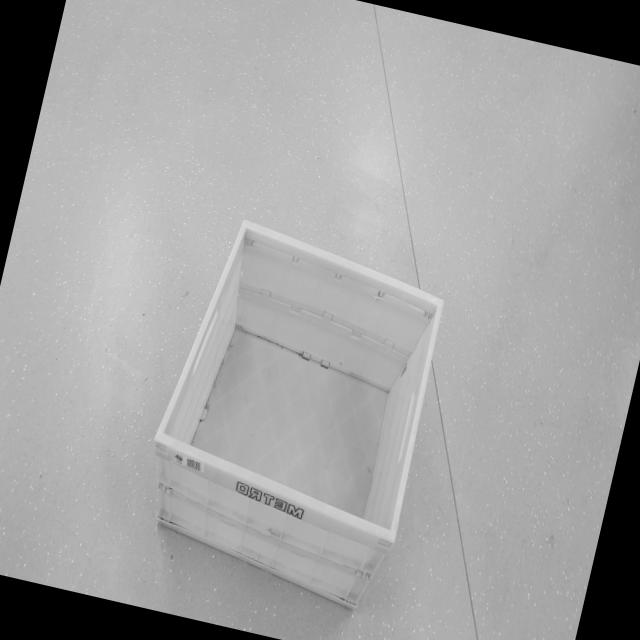box: (121, 200, 470, 623)
